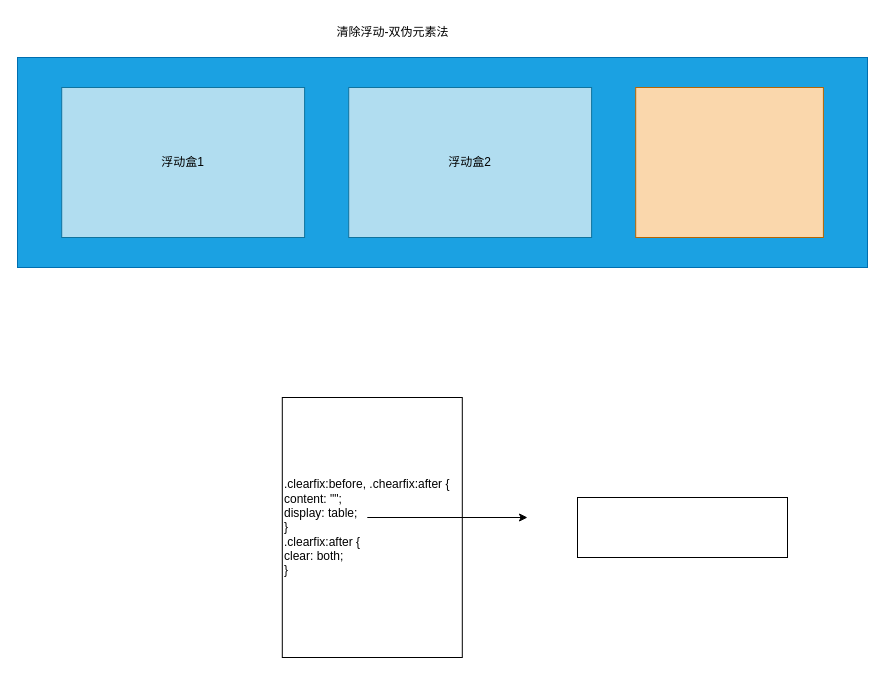
The diagram is 885 pixels wide and 675 high, and some of its shapes have lost their labels. Here are the shapes that lost their labels. From the top down, the centre of each, then its label:
At [729,162]: "clear:both".
At [682,527]: "转换为块级元素，并且在一行显示".
